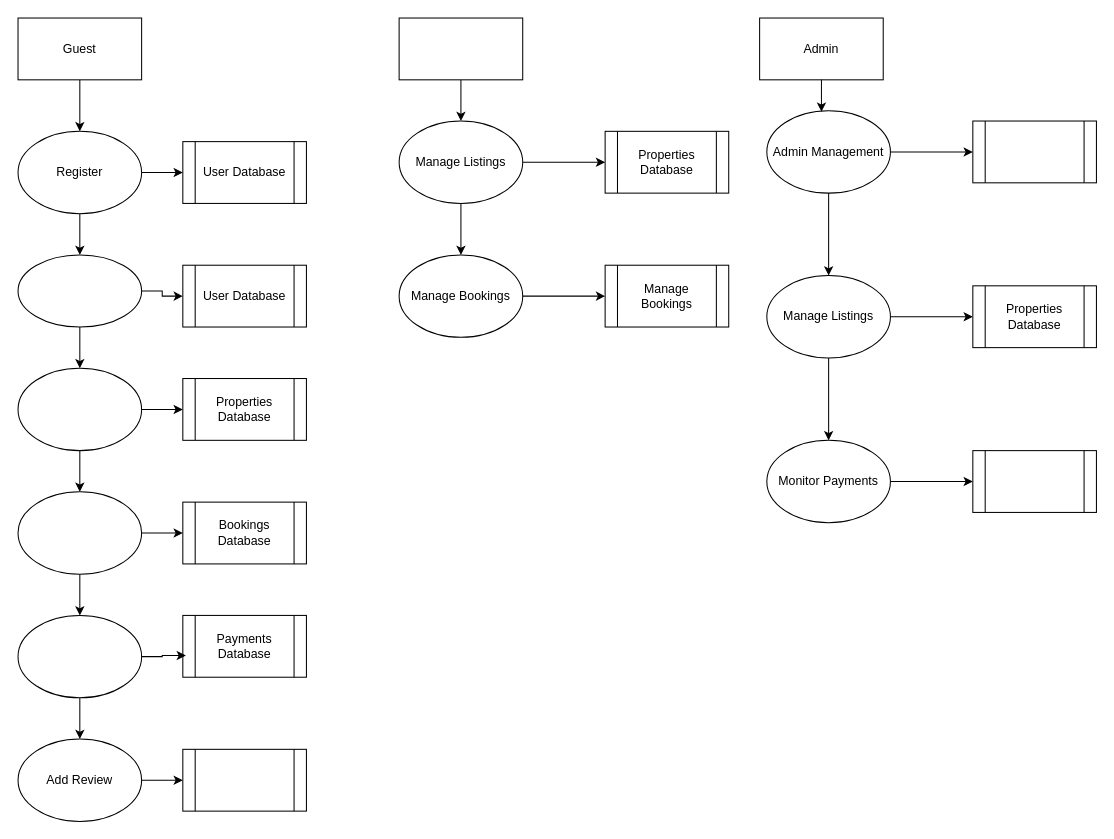
Image size: 1114x839. Some labels were removed from this diagram. Each missing label, with the box of its shape:
Create Booking: (17, 491, 142, 574)
Host: (398, 17, 523, 80)
Login: (17, 254, 142, 327)
Make Payment: (17, 614, 142, 698)
Payment Database: (972, 450, 1096, 512)
Reviews Database: (182, 748, 306, 811)
Search Properties: (17, 367, 142, 451)
Users Database: (972, 120, 1096, 183)
